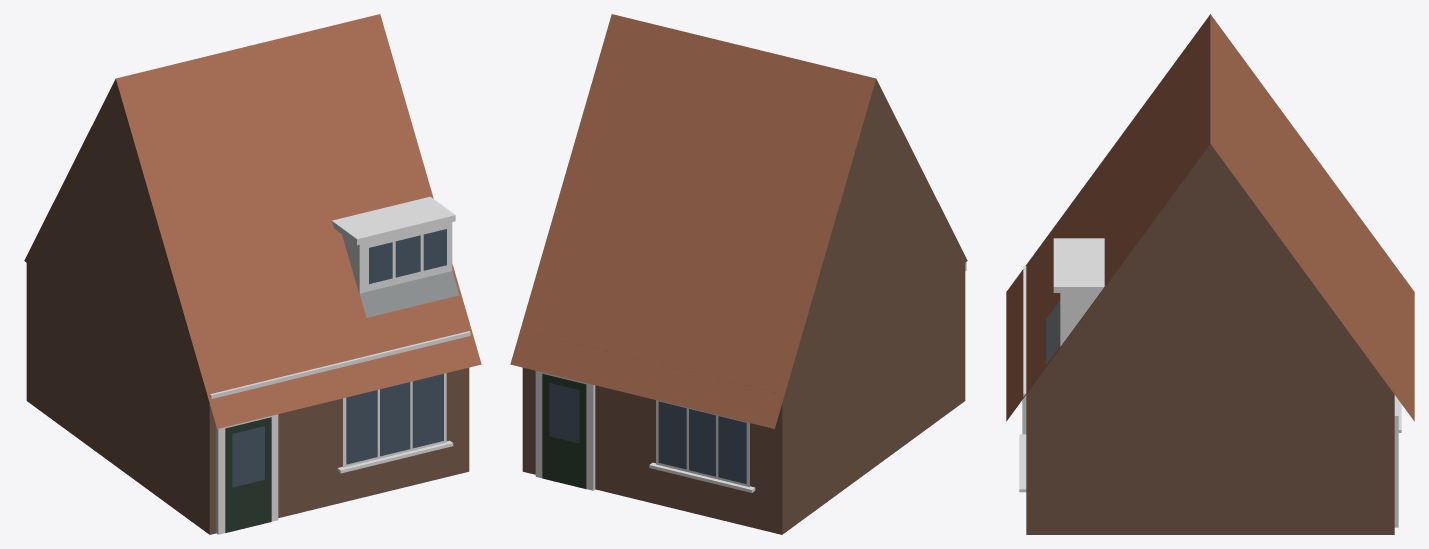
The model's file is nd-to-cottage__green-door__2__gable__long__solid__f0d0.glb.
3 renders of one model, left to right at view 1: azimuth 30°, elevation 25°; view 2: azimuth 150°, elevation 25°; view 3: azimuth 270°, elevation 25°, orthographic.
Parts seen in each view (by area): view 1: nd-to-cottage__green-door__2__gable__long__solid__f0d0; view 2: nd-to-cottage__green-door__2__gable__long__solid__f0d0; view 3: nd-to-cottage__green-door__2__gable__long__solid__f0d0.
Boxes of the visible parts, box(x1,y1,x2,y2) form: nd-to-cottage__green-door__2__gable__long__solid__f0d0: box(24, 14, 481, 534); nd-to-cottage__green-door__2__gable__long__solid__f0d0: box(510, 14, 967, 534); nd-to-cottage__green-door__2__gable__long__solid__f0d0: box(1006, 14, 1414, 534).
Bounding box in the file's own units: 5.41 × 7.63 × 7.19.
